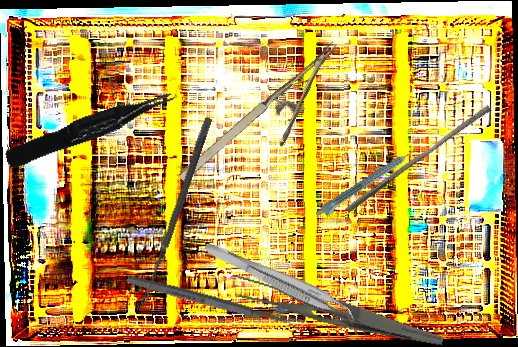Dressing Forceps: (226, 270, 449, 347)
Handpiece: (313, 145, 422, 223)
Needle Holder: (173, 41, 365, 209)
Pusher: (345, 99, 492, 219)
Surgical Spoon: (139, 116, 213, 307), (126, 273, 304, 332)
Tissue Forceps: (1, 88, 180, 170), (199, 240, 361, 326)
